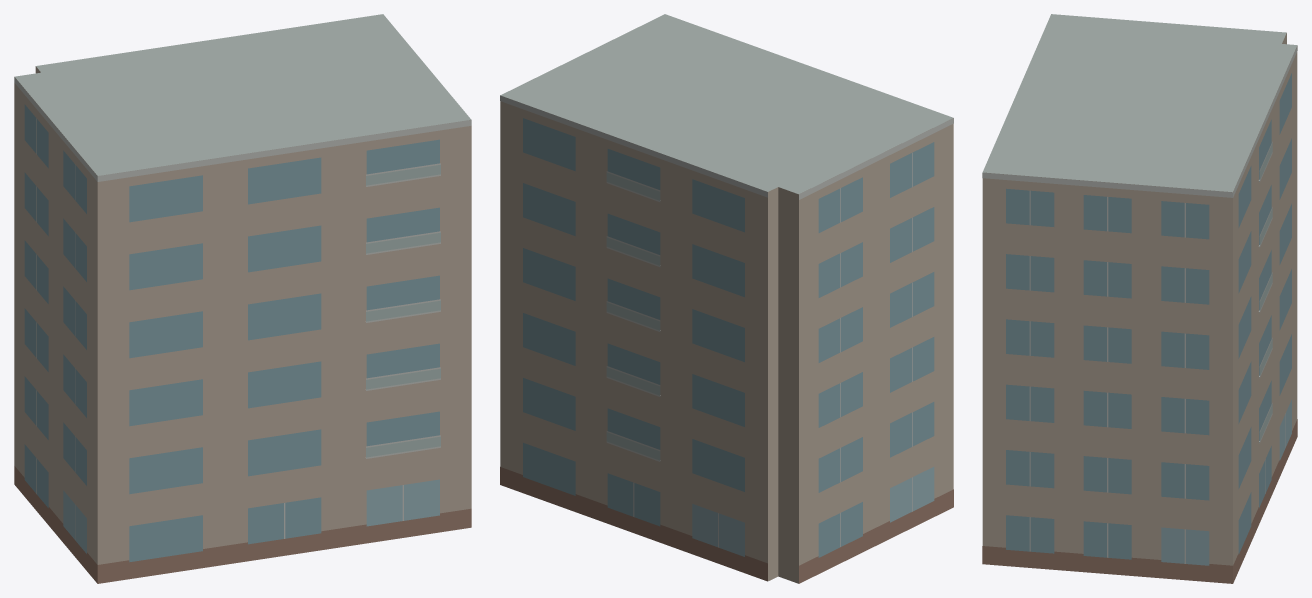
Rendered from survey-upis-32998749.glb.
3 renders of one model, left to right at view 1: azimuth 30°, elevation 25°; view 2: azimuth 150°, elevation 25°; view 3: azimuth 270°, elevation 25°, orthographic. The views are drawn at different scales.
Visible parts, largest first — view 1: survey-upis-32998749.tmp; view 2: survey-upis-32998749.tmp; view 3: survey-upis-32998749.tmp.
Boxes of the visible parts, x1,y1,x2,y2 form: survey-upis-32998749.tmp: (14, 14, 471, 583); survey-upis-32998749.tmp: (500, 14, 953, 583); survey-upis-32998749.tmp: (982, 14, 1297, 583).
Size of the model in its own units: 16.2 by 16.6 by 12.11.
